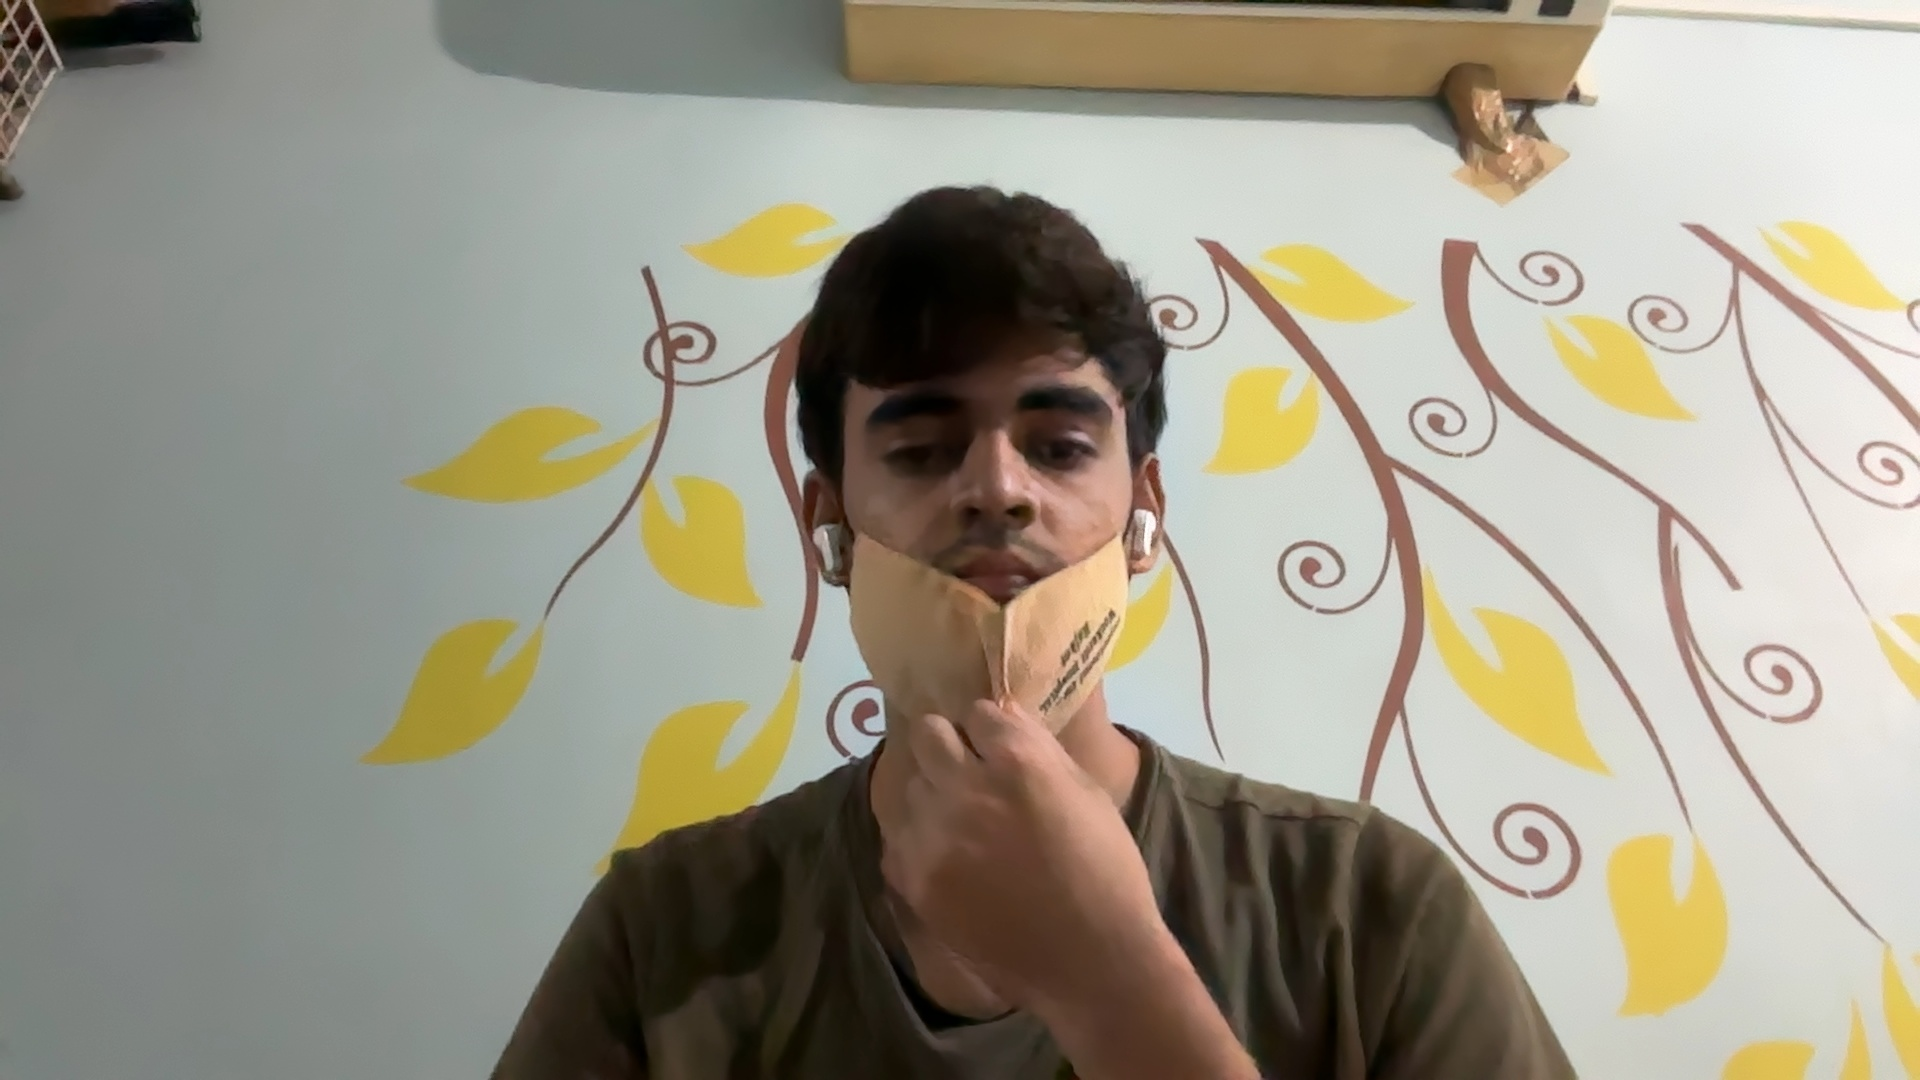No Mask: (834, 481, 1150, 717)
